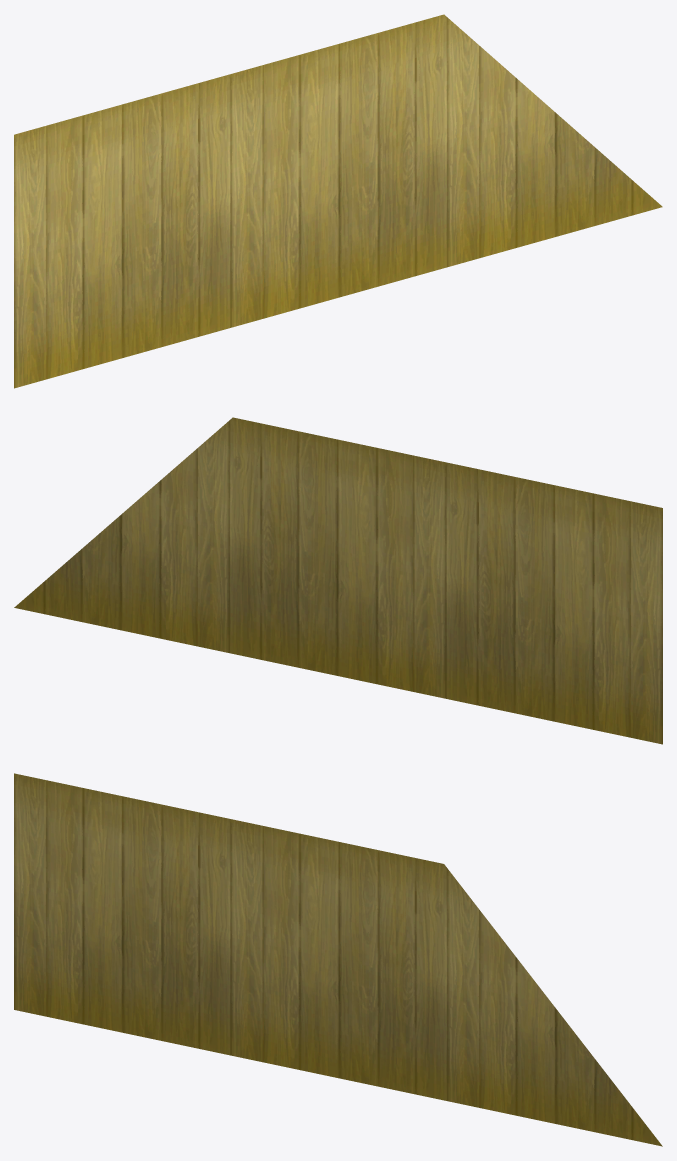
The model's file is HTOWN01_BAGROW3FRONT.fbx.
3 views of the same model, one above another, from view 1: azimuth 30°, elevation 25°; view 2: azimuth 150°, elevation 25°; view 3: azimuth 330°, elevation 25° (orthographic). The views are drawn at different scales.
Parts seen in each view (by area): view 1: HTOWN01_BAGROW3FRONT; view 2: HTOWN01_BAGROW3FRONT; view 3: HTOWN01_BAGROW3FRONT.
Boxes of the visible parts, x1=… form: HTOWN01_BAGROW3FRONT: x1=14, y1=14, x2=662, y2=388; HTOWN01_BAGROW3FRONT: x1=14, y1=417, x2=662, y2=744; HTOWN01_BAGROW3FRONT: x1=14, y1=773, x2=662, y2=1146.
Size of the model in its own units: 93235 by 33614 by 5703.
Materials: 1 (1 with a texture image).
